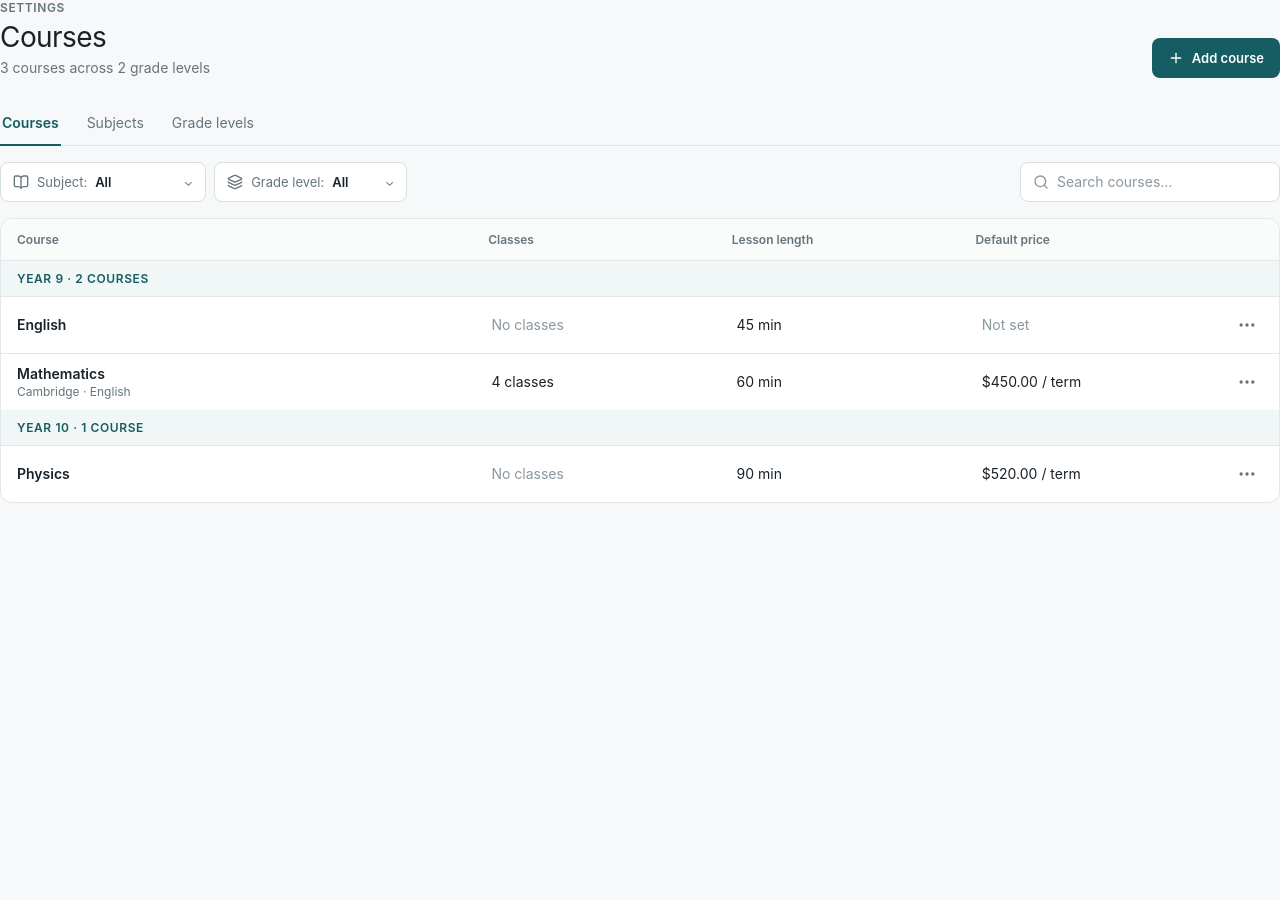
Scenario: the courses tab › lets front desk edit a course but not its price
Click the button named "Actions for Year 9 Mathematics · Cambridge · English". click: (1247, 382)
box: top-left (1227, 362), bottom-right (1267, 402)
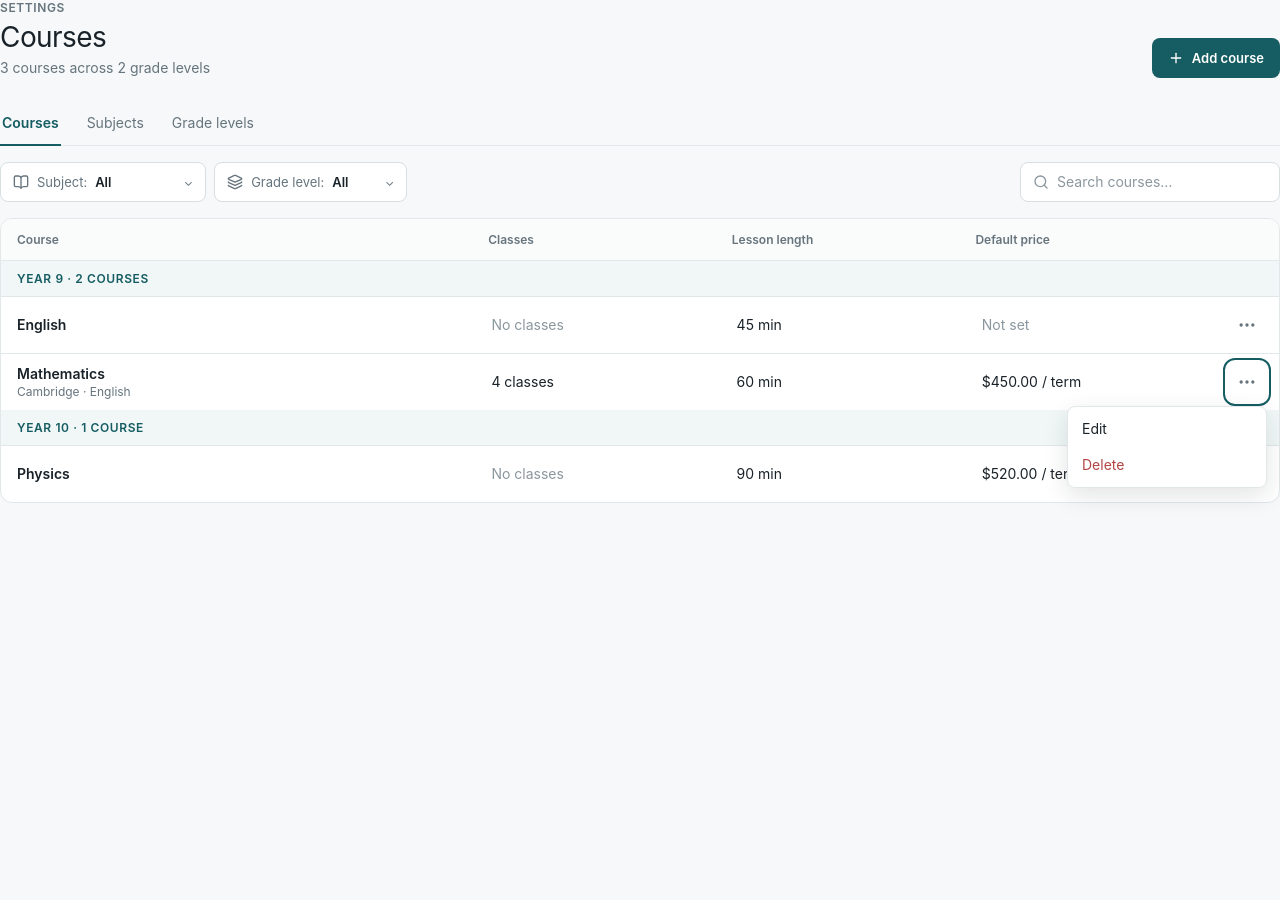
Click the menu item "Edit". click: (1167, 429)
box: top-left (1072, 411), bottom-right (1262, 447)
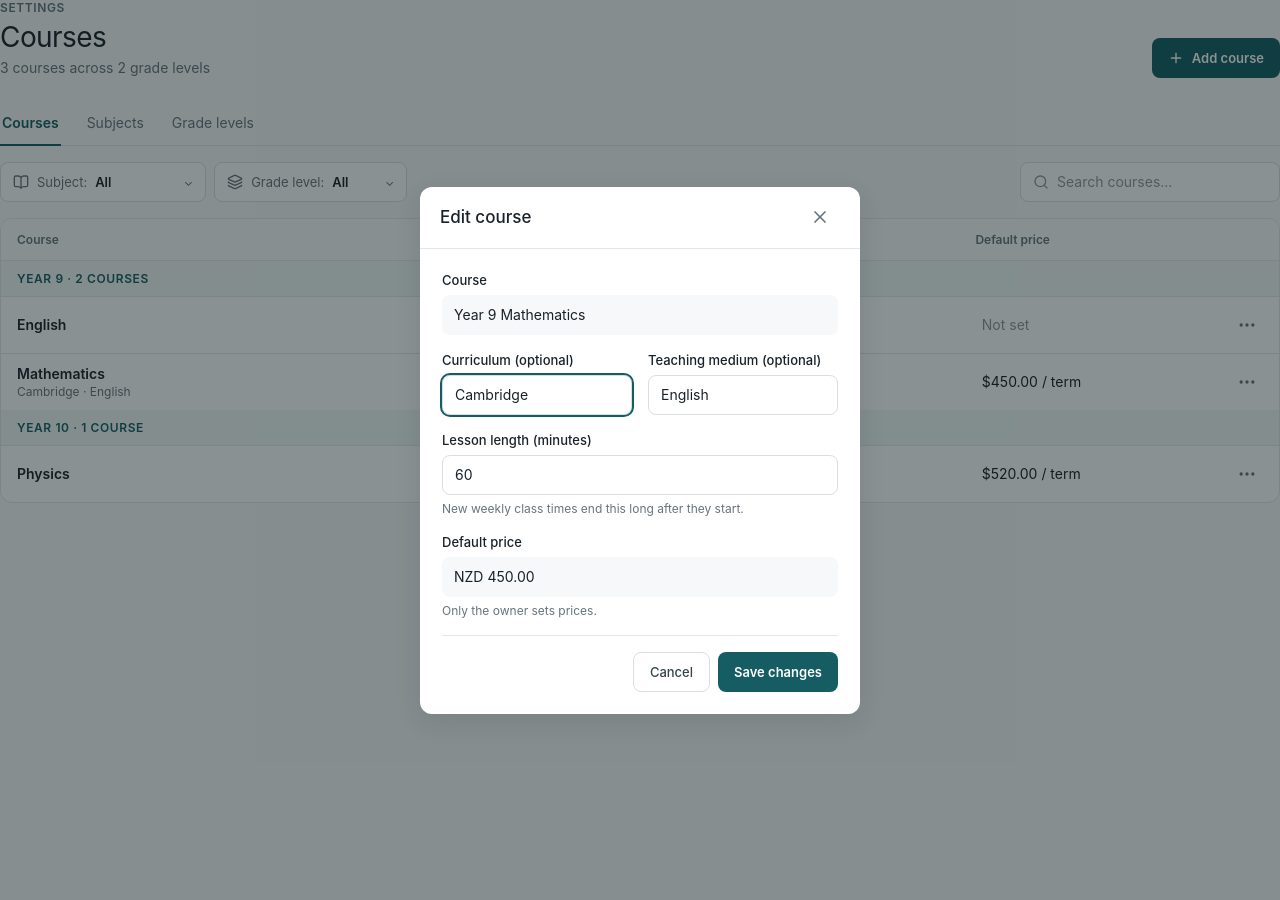
expect the text "Year 9 Mathematics" is shown: met, box top-left (442, 294), bottom-right (838, 334)
expect the text "Only the owner sets prices." is shown: met, box top-left (442, 602), bottom-right (597, 618)
Replace the text in the number field labelled "Lesson length (minutes)" with "75". click: (640, 474)
box: top-left (442, 454), bottom-right (838, 494)
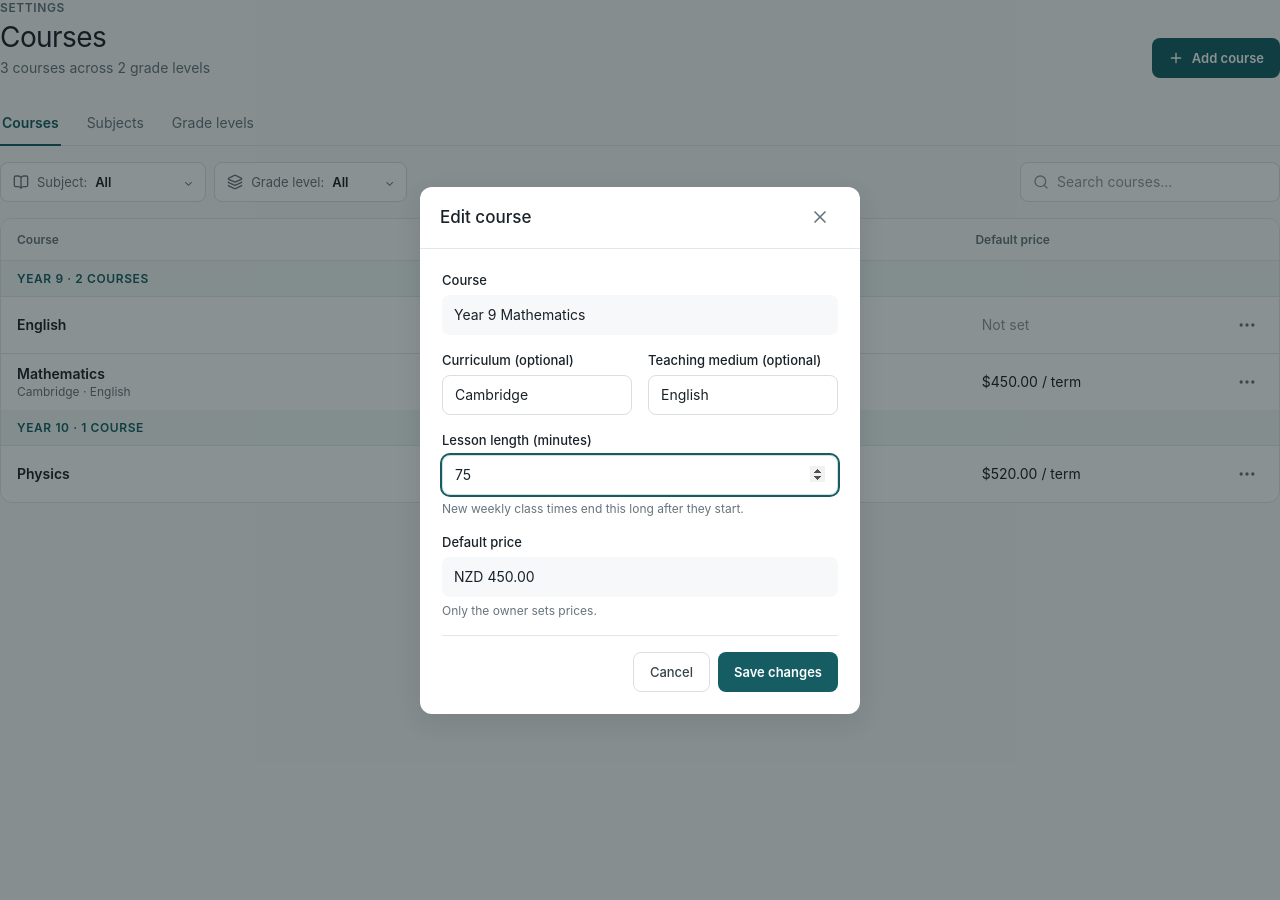
Click the button "Save changes". click: (778, 672)
box: top-left (718, 652), bottom-right (838, 692)
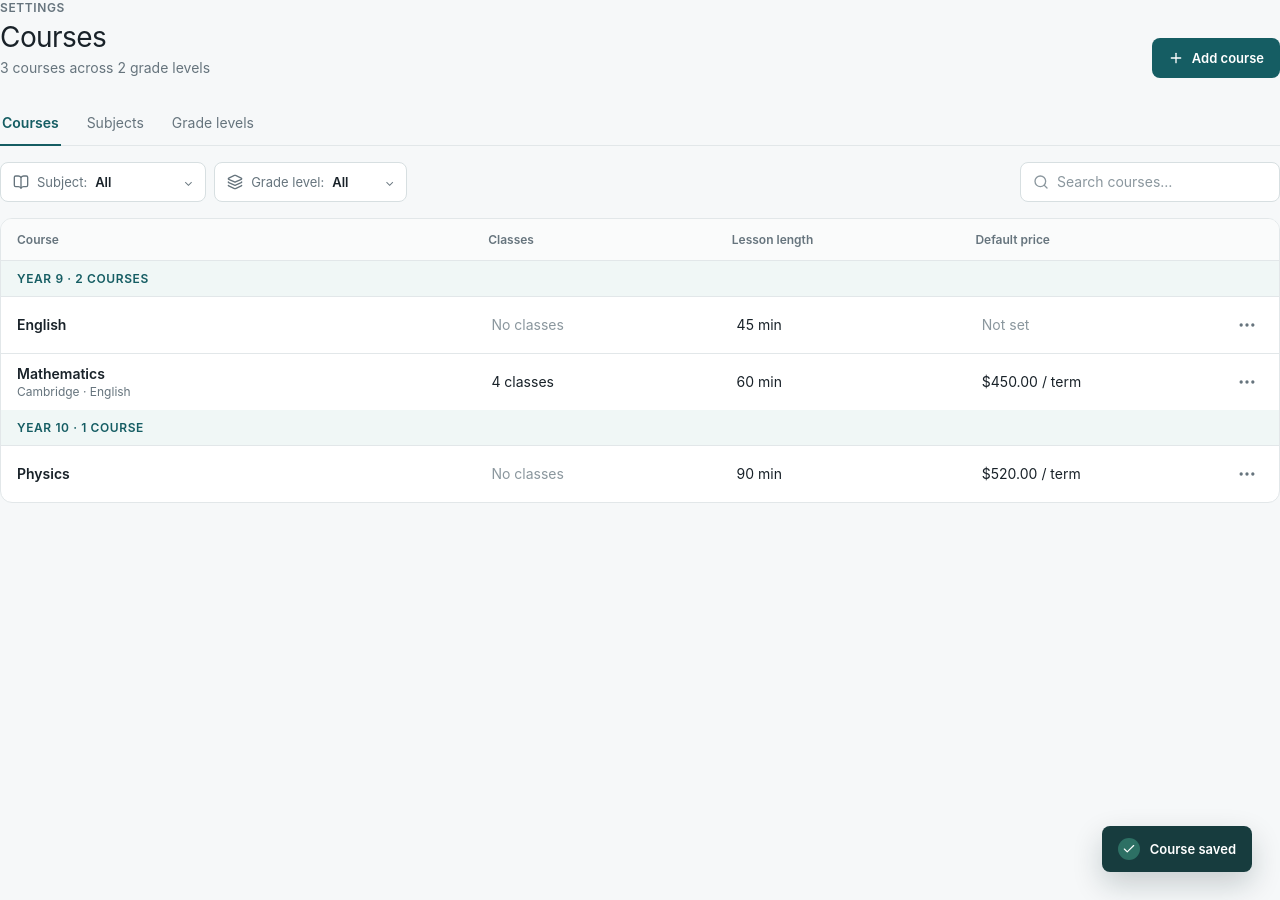
expect the dialog is gone: met
